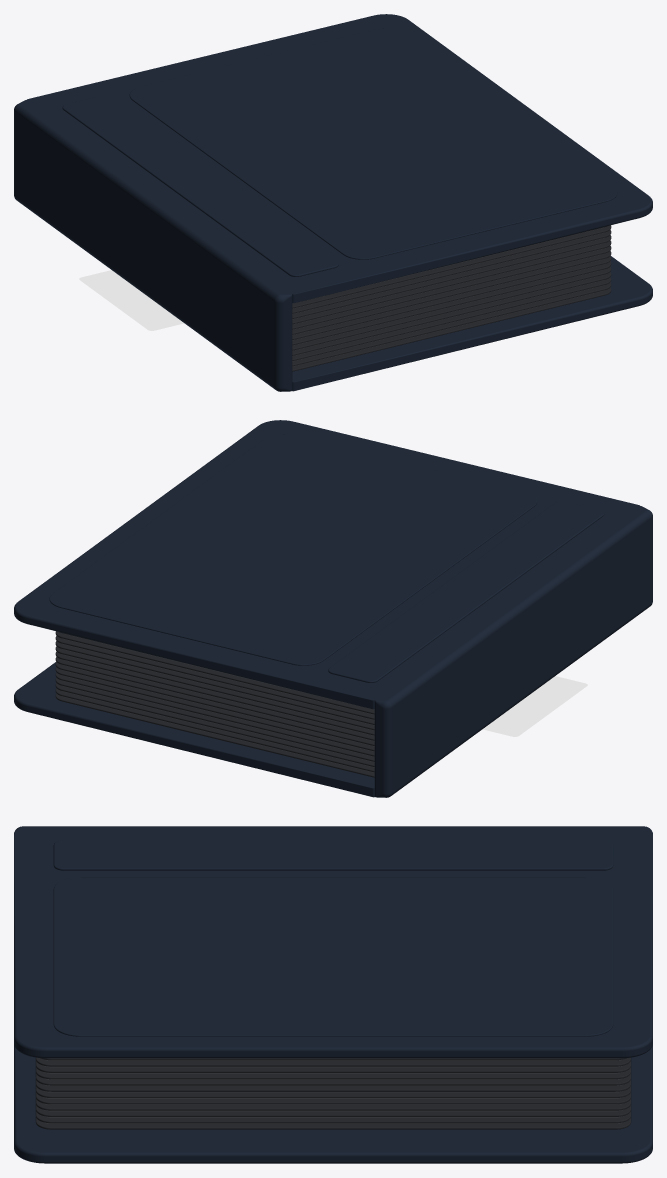
The model's file is album-15h.glb.
The picture shows the model from 3 angles, top to bottom: view 1: azimuth 30°, elevation 25°; view 2: azimuth 150°, elevation 25°; view 3: azimuth 270°, elevation 25°; orthographic projection. The views are drawn at different scales.
Parts seen in each view (by area): view 1: Tapa_Panel, Lomo, Tapa_Malla, Tapa_Banda, Contratapa, Plantilla_Carta_F, Hoja_5_Losa, Hoja_3_Losa, Hoja_7_Losa, Hoja_9_Losa, Hoja_4_Losa, Hoja_6_Losa (+7 smaller); view 2: Tapa_Panel, Lomo, Tapa_Malla, Tapa_Banda, Contratapa, Plantilla_Carta_F, Hoja_5_Losa, Hoja_3_Losa, Hoja_7_Losa, Hoja_9_Losa, Hoja_4_Losa, Hoja_6_Losa (+7 smaller); view 3: Tapa_Panel, Tapa_Malla, Contratapa, Tapa_Banda, Lomo, Hoja_8_Losa, Hoja_10_Losa, Hoja_11_Losa, Hoja_14_Losa, Hoja_5_Losa, Hoja_6_Losa, Hoja_7_Losa (+5 smaller).
Boxes of the visible parts, x1,y1,x2,y2 form: Tapa_Panel: (129,28,617,259); Lomo: (14,100,292,391); Tapa_Malla: (27,14,652,303); Tapa_Banda: (62,95,338,276); Contratapa: (292,255,652,391); Plantilla_Carta_F: (79,270,183,330); Hoja_5_Losa: (292,240,611,324); Hoja_3_Losa: (292,230,611,313); Hoja_7_Losa: (292,251,611,334); Hoja_9_Losa: (292,261,611,345); Hoja_4_Losa: (292,235,611,318); Hoja_6_Losa: (292,245,611,329); Tapa_Panel: (49,434,537,665); Lomo: (374,506,652,797); Tapa_Malla: (14,420,639,709); Tapa_Banda: (328,501,604,682); Contratapa: (14,661,374,797); Plantilla_Carta_F: (483,676,587,736); Hoja_5_Losa: (55,646,374,730); Hoja_3_Losa: (55,636,374,719); Hoja_7_Losa: (55,657,374,740); Hoja_9_Losa: (55,667,374,751); Hoja_4_Losa: (55,641,374,724); Hoja_6_Losa: (55,651,374,735); Tapa_Panel: (53,877,613,1036); Tapa_Malla: (14,832,652,1058); Contratapa: (14,1044,652,1163); Tapa_Banda: (53,840,613,870); Lomo: (14,826,652,832); Hoja_8_Losa: (35,1078,631,1091); Hoja_10_Losa: (35,1091,631,1104); Hoja_11_Losa: (35,1097,631,1110); Hoja_14_Losa: (35,1116,631,1129); Hoja_5_Losa: (35,1060,631,1072); Hoja_6_Losa: (35,1066,631,1079); Hoja_7_Losa: (35,1072,631,1085).
Size of the model in its own units: 0.2895 by 0.0657 by 0.322.
